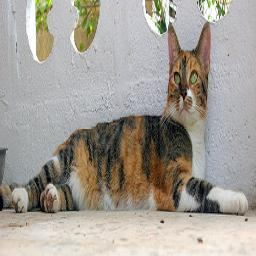catnose: (180, 86, 187, 100)
